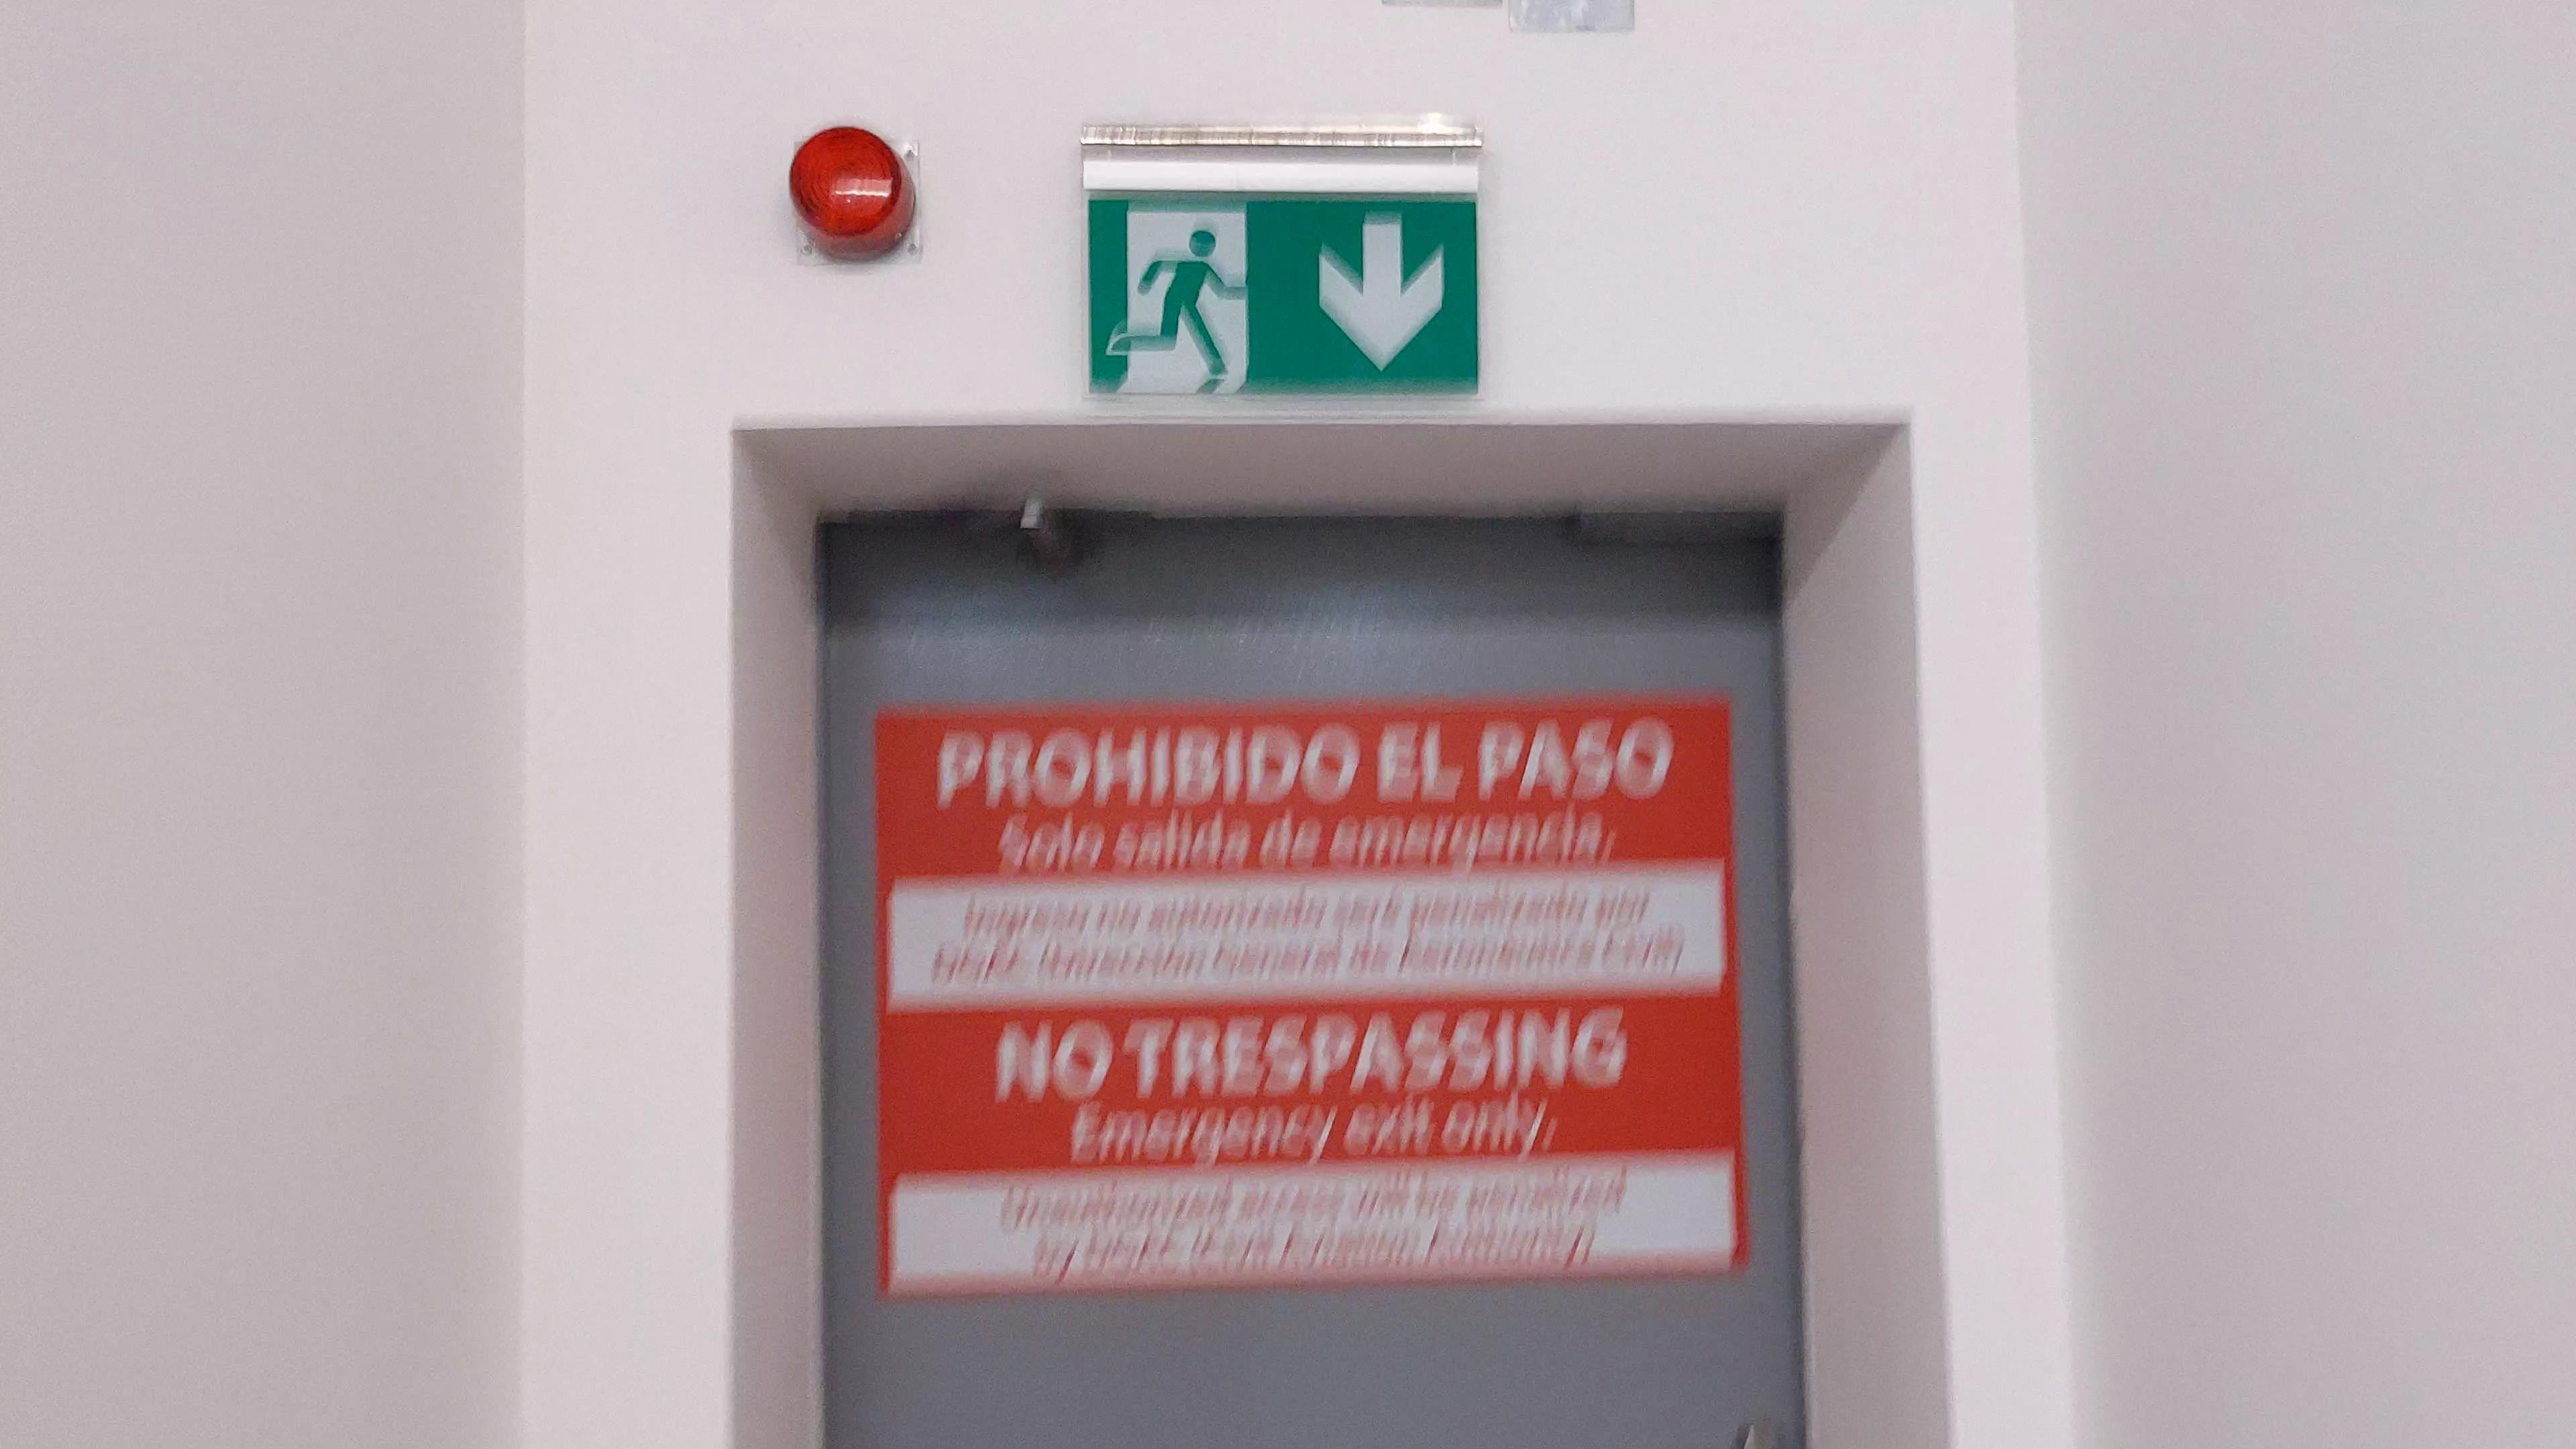emergency down arrow: (1313, 207, 1453, 382)
emergency exit: (1102, 205, 1254, 400)
no trespassing: (878, 718, 1725, 1274)
